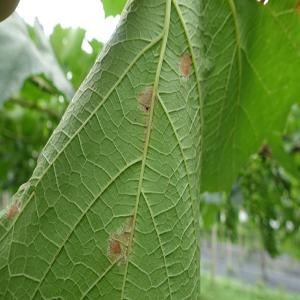Folha: (0, 0, 300, 300)
Fungo: (106, 215, 136, 267), (136, 86, 158, 150), (137, 85, 157, 112), (4, 198, 22, 220), (178, 50, 192, 78), (142, 112, 155, 135), (257, 142, 271, 160), (122, 214, 134, 234), (112, 240, 120, 254), (33, 184, 37, 194)
